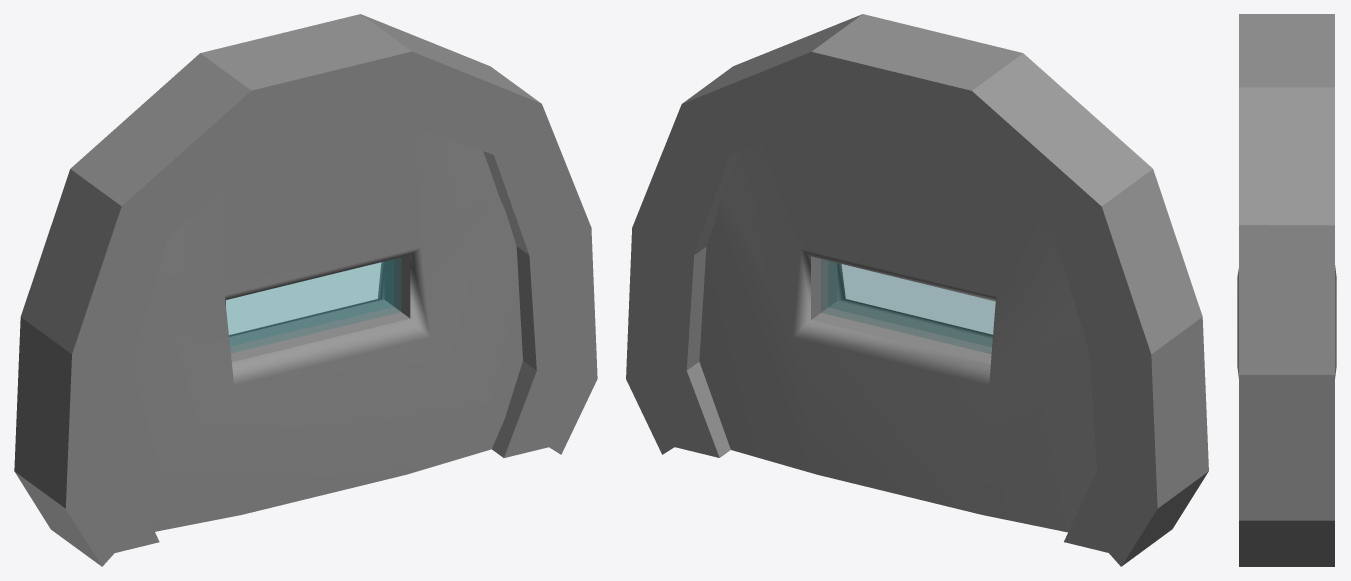
Rendered from Wall_BlastDoor.fbx.
3 renders of one model, left to right at view 1: azimuth 30°, elevation 25°; view 2: azimuth 150°, elevation 25°; view 3: azimuth 270°, elevation 25°, orthographic. The views are drawn at different scales.
Visible parts, largest first — view 1: BlastDoor, BlastDoor_Ring; view 2: BlastDoor, BlastDoor_Ring; view 3: BlastDoor_Ring, BlastDoor.
Boxes of the visible parts, left/top/right/bottom form: BlastDoor: left=126, top=116, right=522, bottom=531; BlastDoor_Ring: left=14, top=14, right=597, bottom=566; BlastDoor: left=699, top=116, right=1096, bottom=532; BlastDoor_Ring: left=626, top=14, right=1208, bottom=566; BlastDoor_Ring: left=1239, top=14, right=1334, bottom=566; BlastDoor: left=1237, top=265, right=1336, bottom=377.
Bounding box in the file's own units: 567 × 448 × 97.93.
